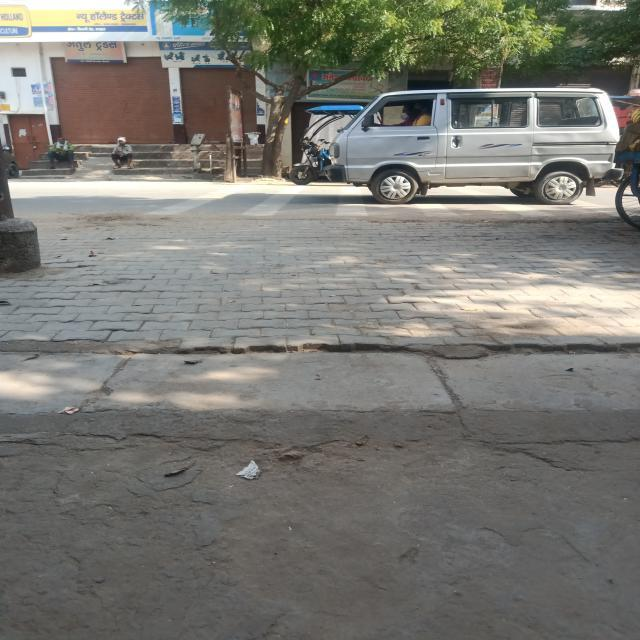Travller: (317, 79, 640, 198)
